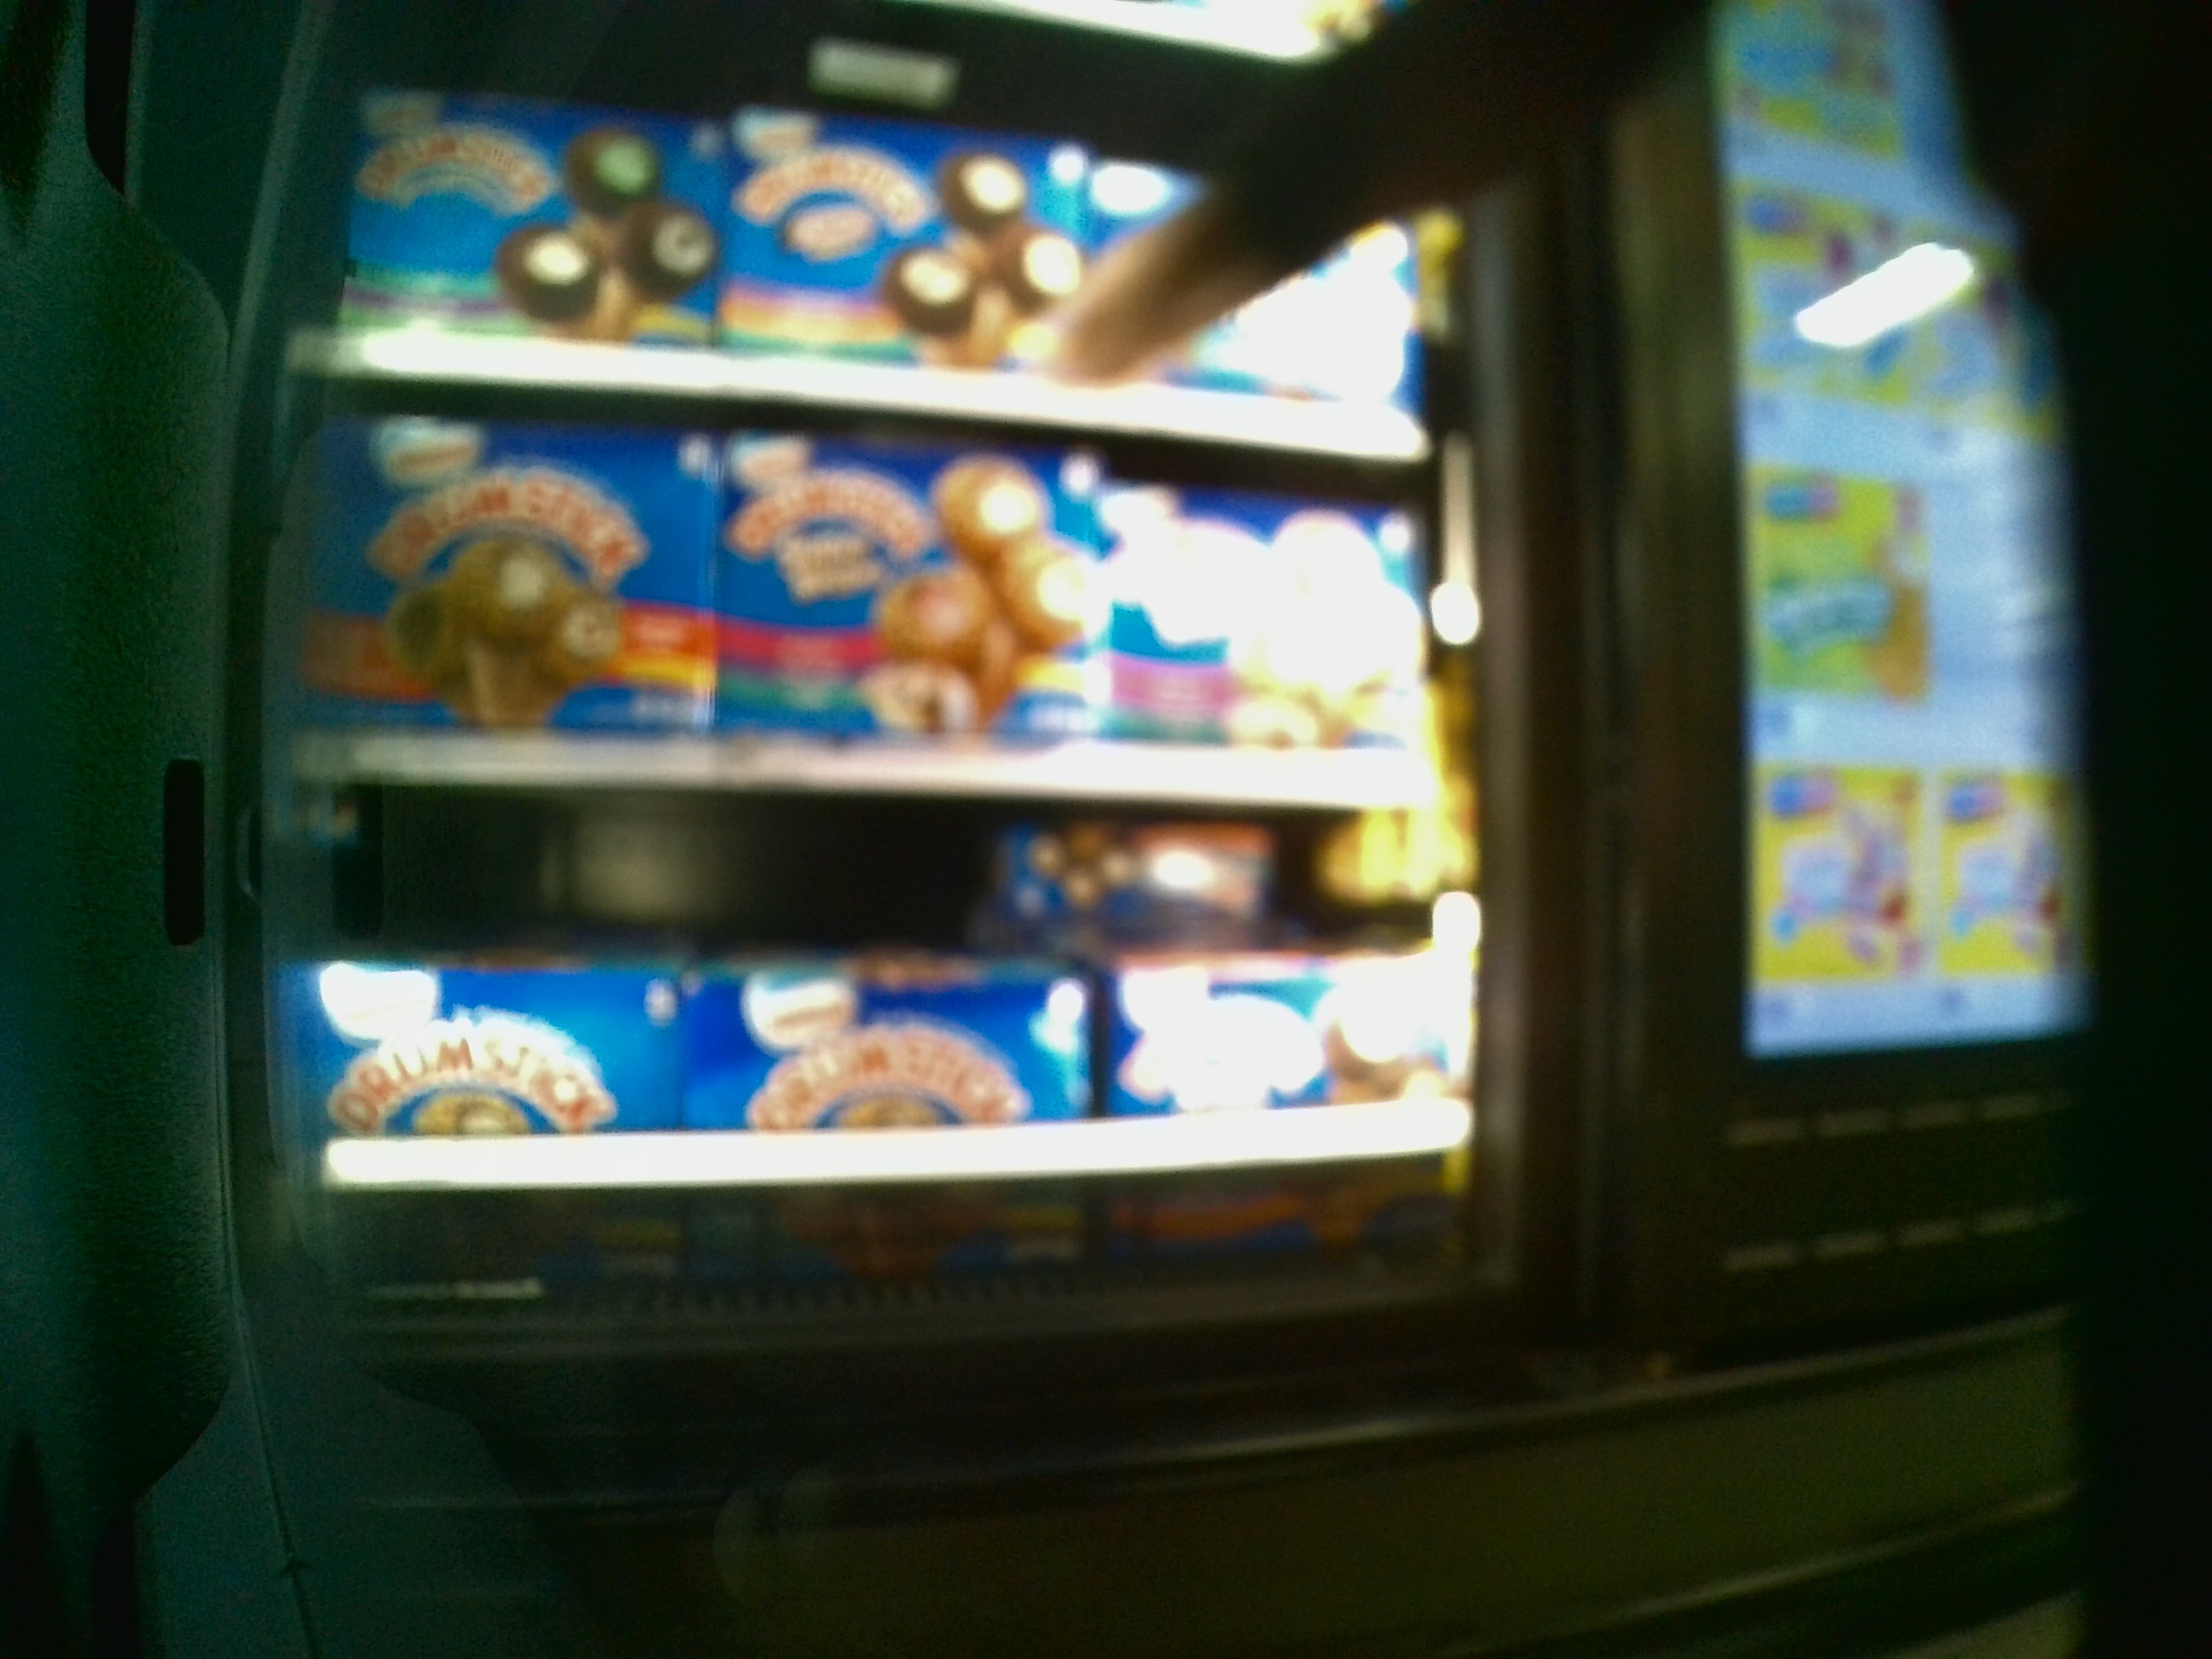shelf: (307, 786, 1477, 1297), (287, 422, 1472, 795)
